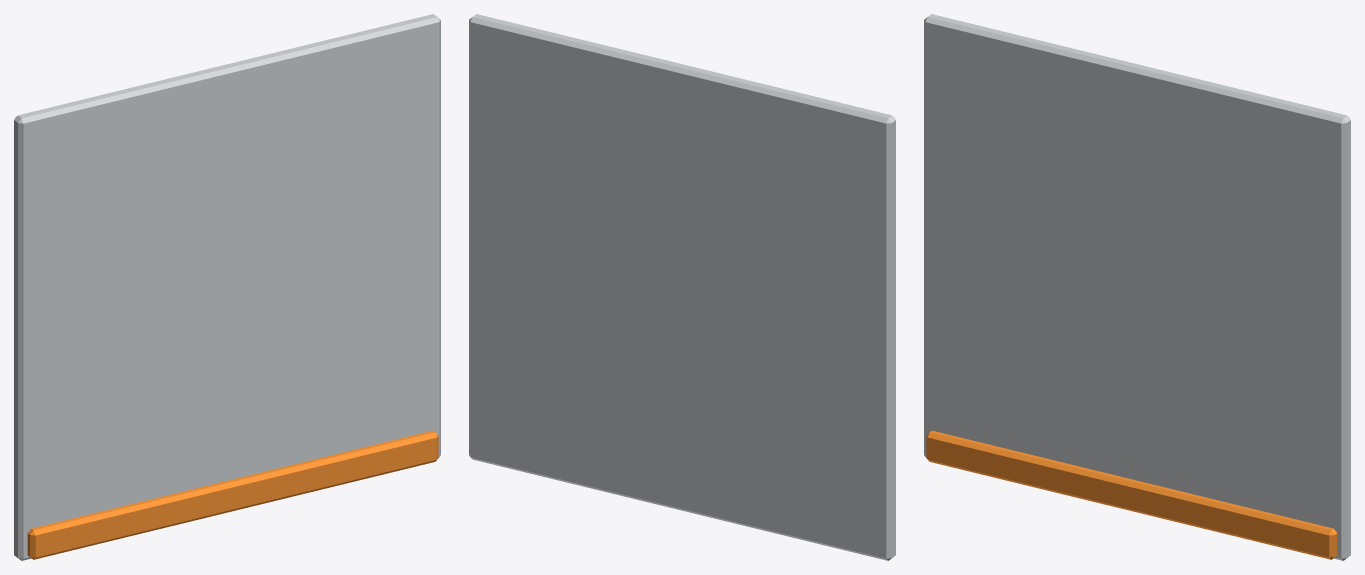
The model's file is base-Wall.fbx.
3 renders of one model, left to right at view 1: azimuth 30°, elevation 25°; view 2: azimuth 150°, elevation 25°; view 3: azimuth 330°, elevation 25°, orthographic.
Visible parts, largest first — view 1: base-Wall_Panel.001, base-Wall_Trim.001; view 2: base-Wall_Panel.001; view 3: base-Wall_Panel.001, base-Wall_Trim.001.
Boxes of the visible parts, x1=… form: base-Wall_Panel.001: x1=14, y1=14, x2=440, y2=560; base-Wall_Trim.001: x1=27, y1=430, x2=438, y2=559; base-Wall_Panel.001: x1=469, y1=14, x2=895, y2=560; base-Wall_Panel.001: x1=924, y1=14, x2=1350, y2=560; base-Wall_Trim.001: x1=926, y1=430, x2=1337, y2=559.
Bounding box in the file's own units: 300 × 300 × 16.
